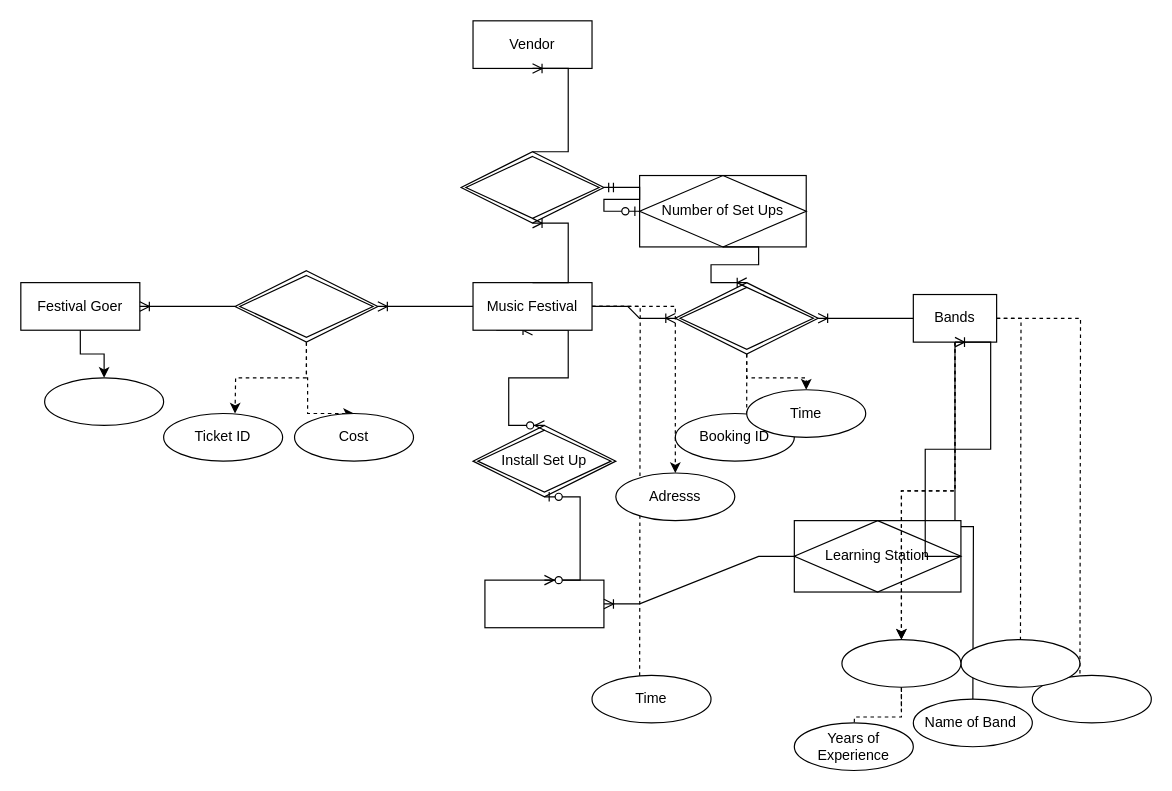
Image size: 1172x791. Some labels were removed from this diagram. The shapes that lost their labels are listed below. From the top down, each one's box as (x1, y1, x2, y2) in pixels, then its label:
(460, 151, 604, 223): Install -Set Up
(234, 270, 378, 342): Register
(674, 281, 818, 354): Book
(43, 377, 164, 425): Name
(484, 579, 604, 628): Workshop
(841, 638, 961, 687): Name of Members
(960, 638, 1080, 687): Instruments
(1031, 674, 1151, 723): Ages
